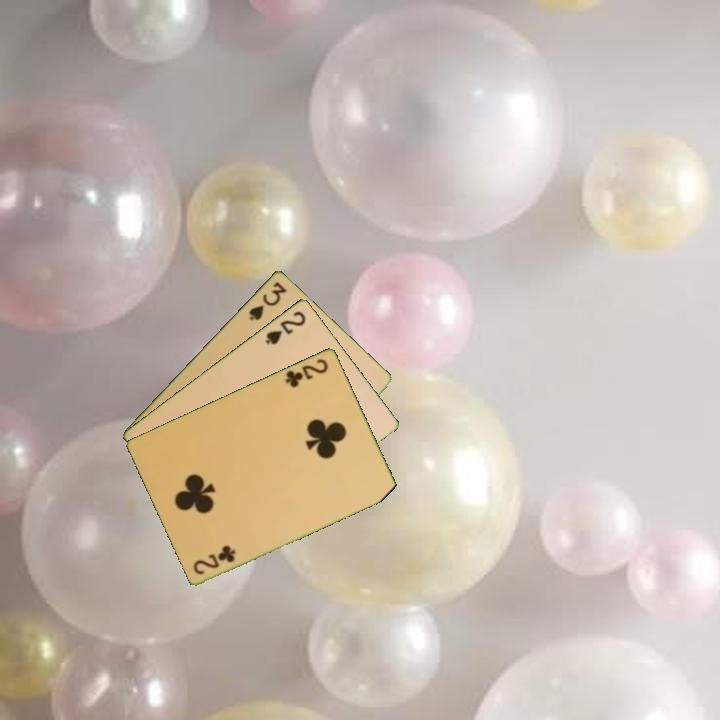2c: (282, 355, 331, 390), (190, 542, 239, 577)
2s: (262, 307, 309, 347)
3s: (245, 277, 289, 323)
